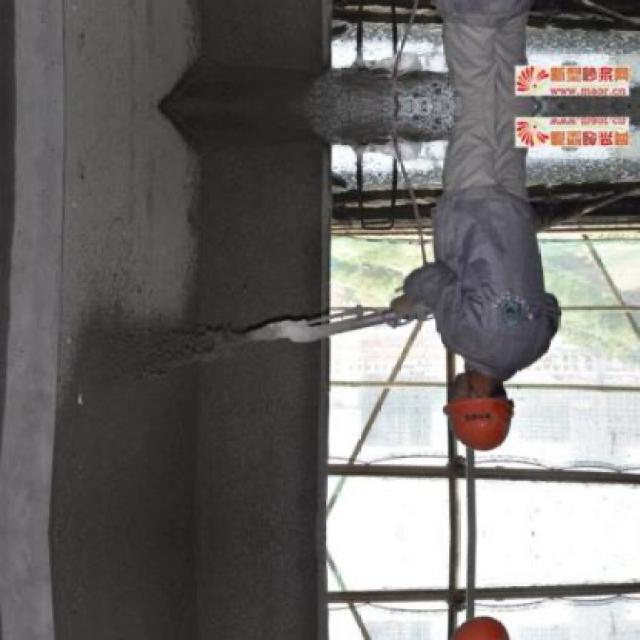con casco: (426, 332, 530, 498)
